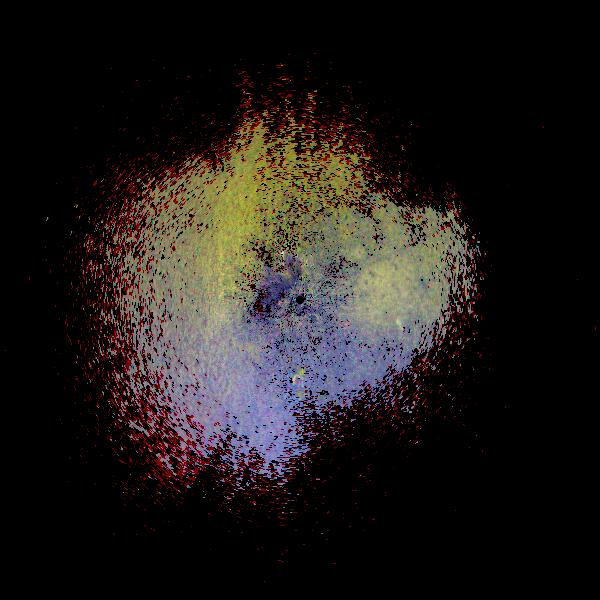roost: (290, 367, 311, 388)
